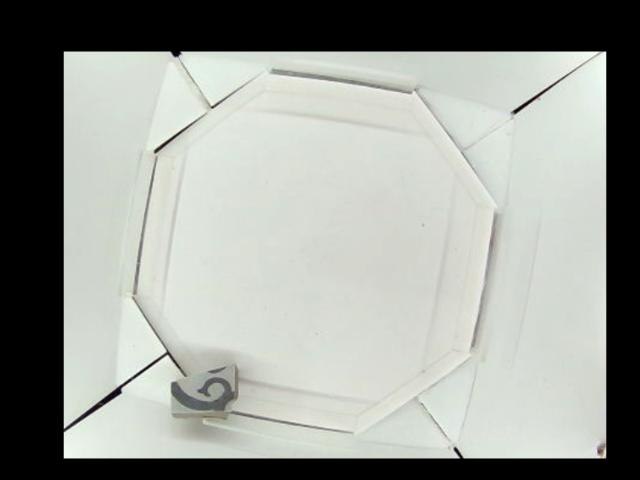China: (167, 361, 237, 418)
